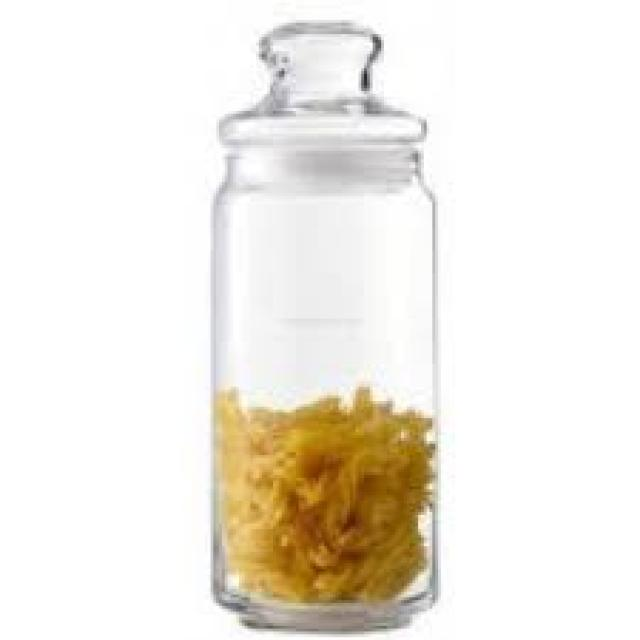Anorganik: (208, 20, 438, 629)
Organik: (213, 387, 430, 600)
